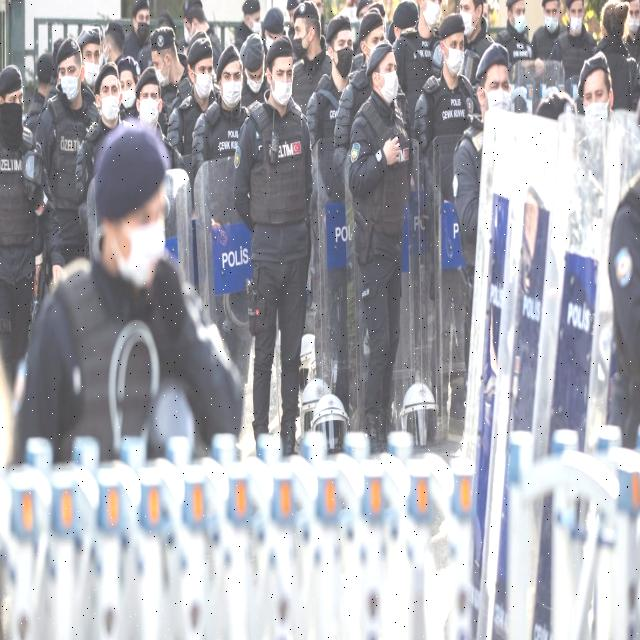police: (4, 127, 232, 600), (411, 0, 521, 488), (146, 17, 250, 458), (293, 0, 375, 451), (356, 50, 431, 420), (238, 35, 305, 449), (30, 27, 102, 318), (0, 63, 35, 376)
